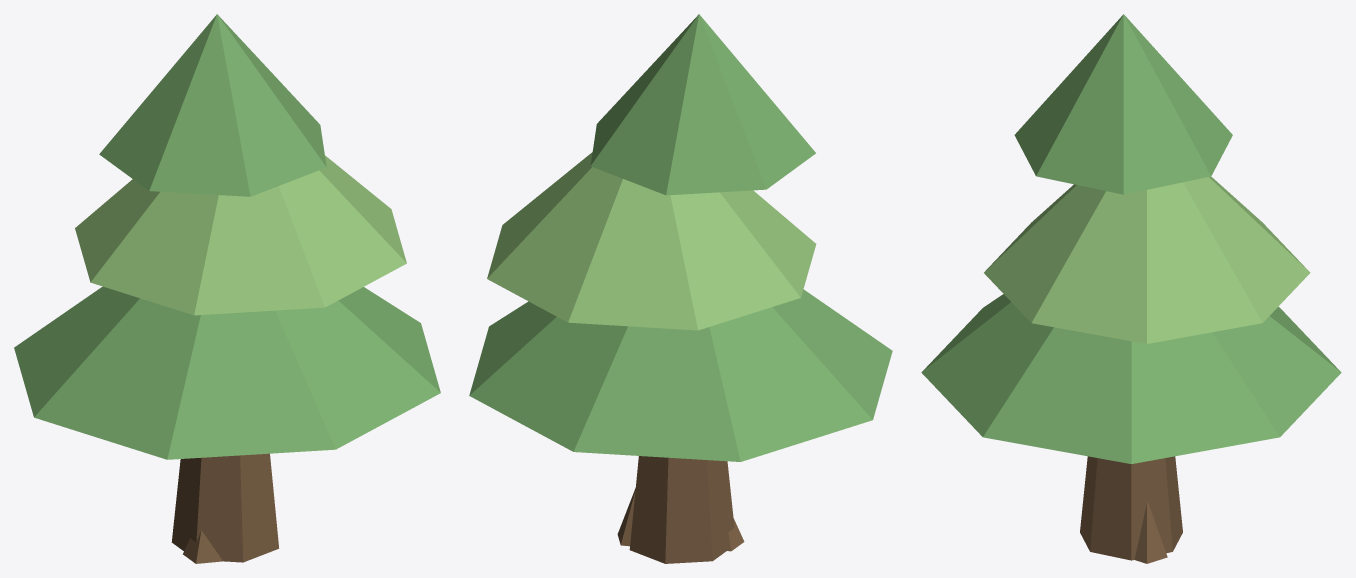
Rendered from Tree.fbx.
The picture shows the model from 3 angles, left to right: view 1: azimuth 30°, elevation 25°; view 2: azimuth 150°, elevation 25°; view 3: azimuth 270°, elevation 25°; orthographic projection. The views are drawn at different scales.
Parts seen in each view (by area): view 1: Tree_CanopyLow, Tree_CanopyMid, Tree_CanopyTop, Tree_Trunk, Tree_RootB; view 2: Tree_CanopyLow, Tree_CanopyMid, Tree_CanopyTop, Tree_Trunk; view 3: Tree_CanopyLow, Tree_CanopyMid, Tree_CanopyTop, Tree_Trunk, Tree_RootA.
Boxes of the visible parts, x1=… form: Tree_CanopyLow: x1=14, y1=286, x2=440, y2=459; Tree_CanopyMid: x1=75, y1=155, x2=406, y2=315; Tree_CanopyTop: x1=99, y1=14, x2=326, y2=196; Tree_Trunk: x1=171, y1=453, x2=279, y2=562; Tree_RootB: x1=183, y1=530, x2=222, y2=563; Tree_CanopyLow: x1=469, y1=289, x2=892, y2=461; Tree_CanopyMid: x1=487, y1=152, x2=816, y2=330; Tree_CanopyTop: x1=590, y1=14, x2=815, y2=195; Tree_Trunk: x1=629, y1=456, x2=734, y2=563; Tree_CanopyLow: x1=921, y1=294, x2=1341, y2=463; Tree_CanopyMid: x1=984, y1=176, x2=1310, y2=343; Tree_CanopyTop: x1=1014, y1=14, x2=1232, y2=194; Tree_Trunk: x1=1080, y1=456, x2=1182, y2=560; Tree_RootA: x1=1134, y1=503, x2=1167, y2=563.
Size of the model in its own units: 431 by 567 by 418.
